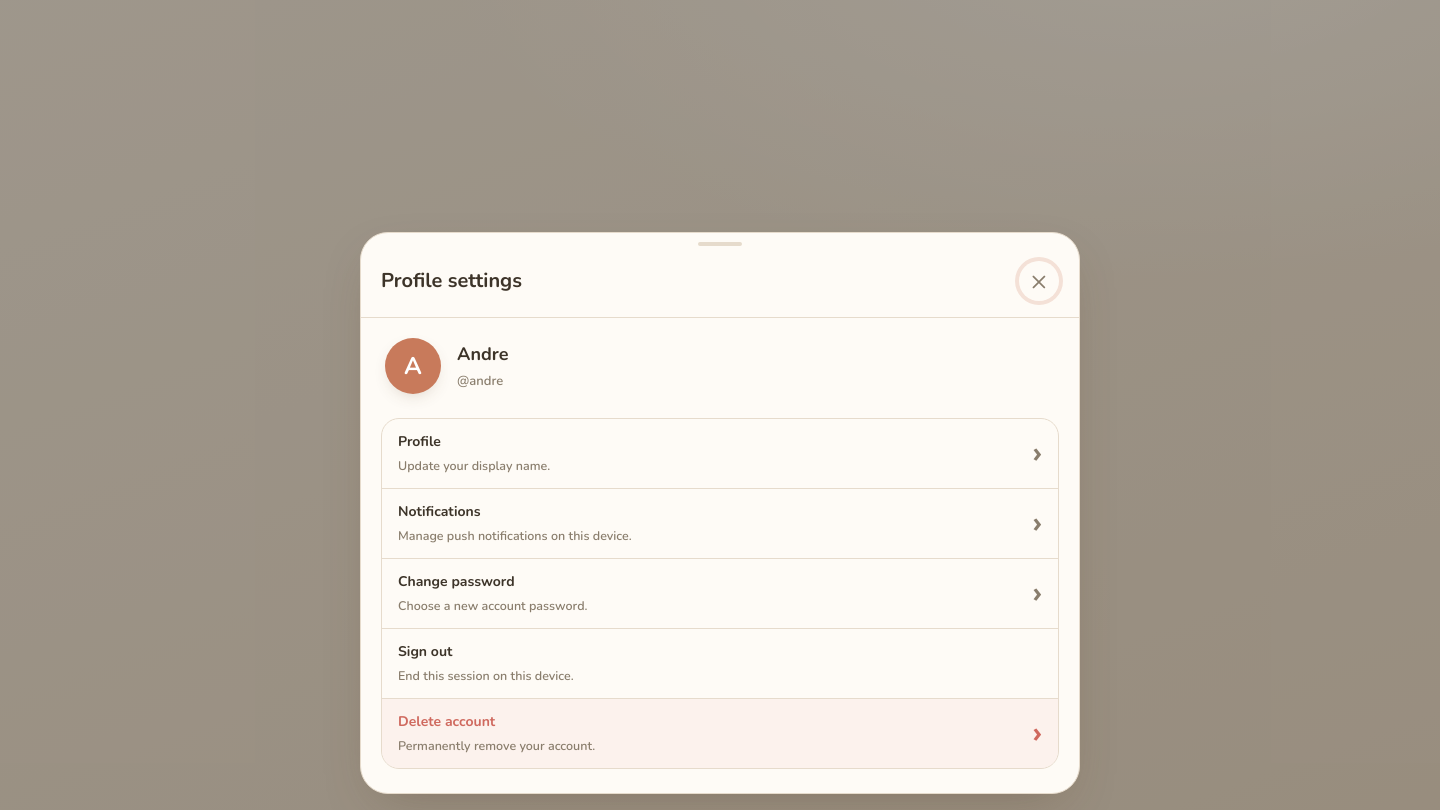
Scenario: ProfileSettings › validates matching passwords before updating credentials
Click the button "Change password Choose a new account password. ›". click: (456, 582)
box: [382,559,1058,629]
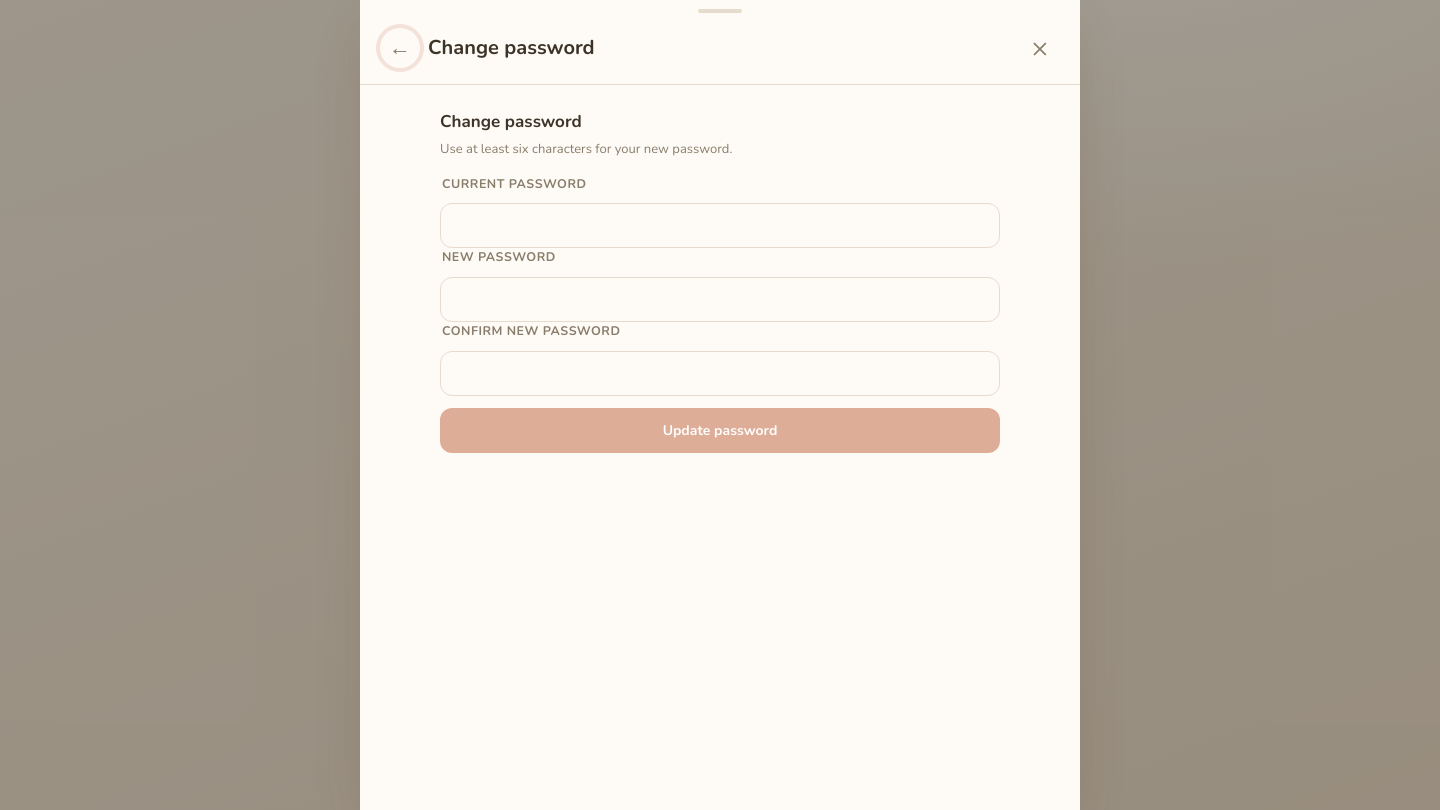
Type "roomie" into the password field labelled "Current password". click: (720, 226)
box: [440,203,1000,248]
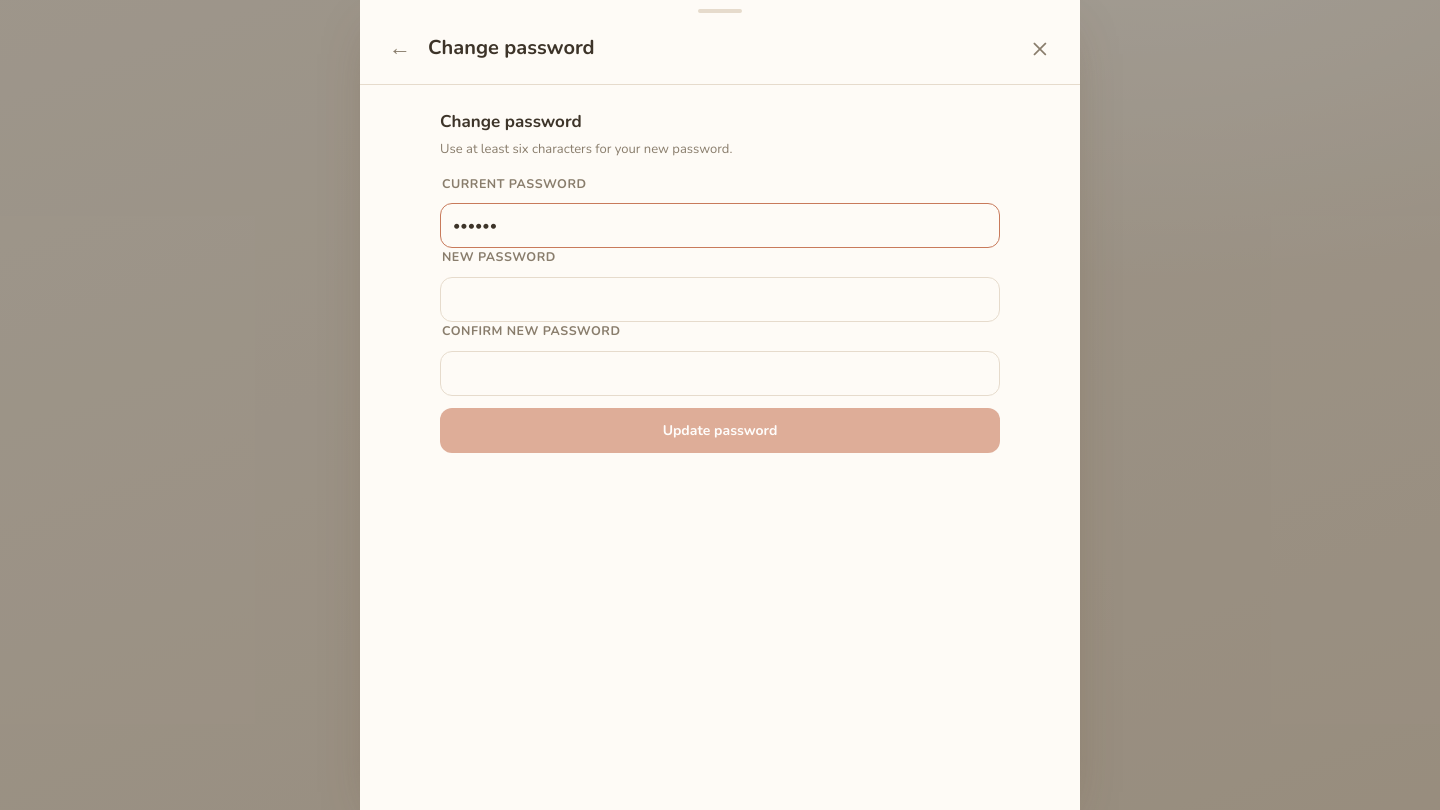
Type "new-roomie" into the password field labelled "New password". click: (720, 300)
box: [440,277,1000,322]
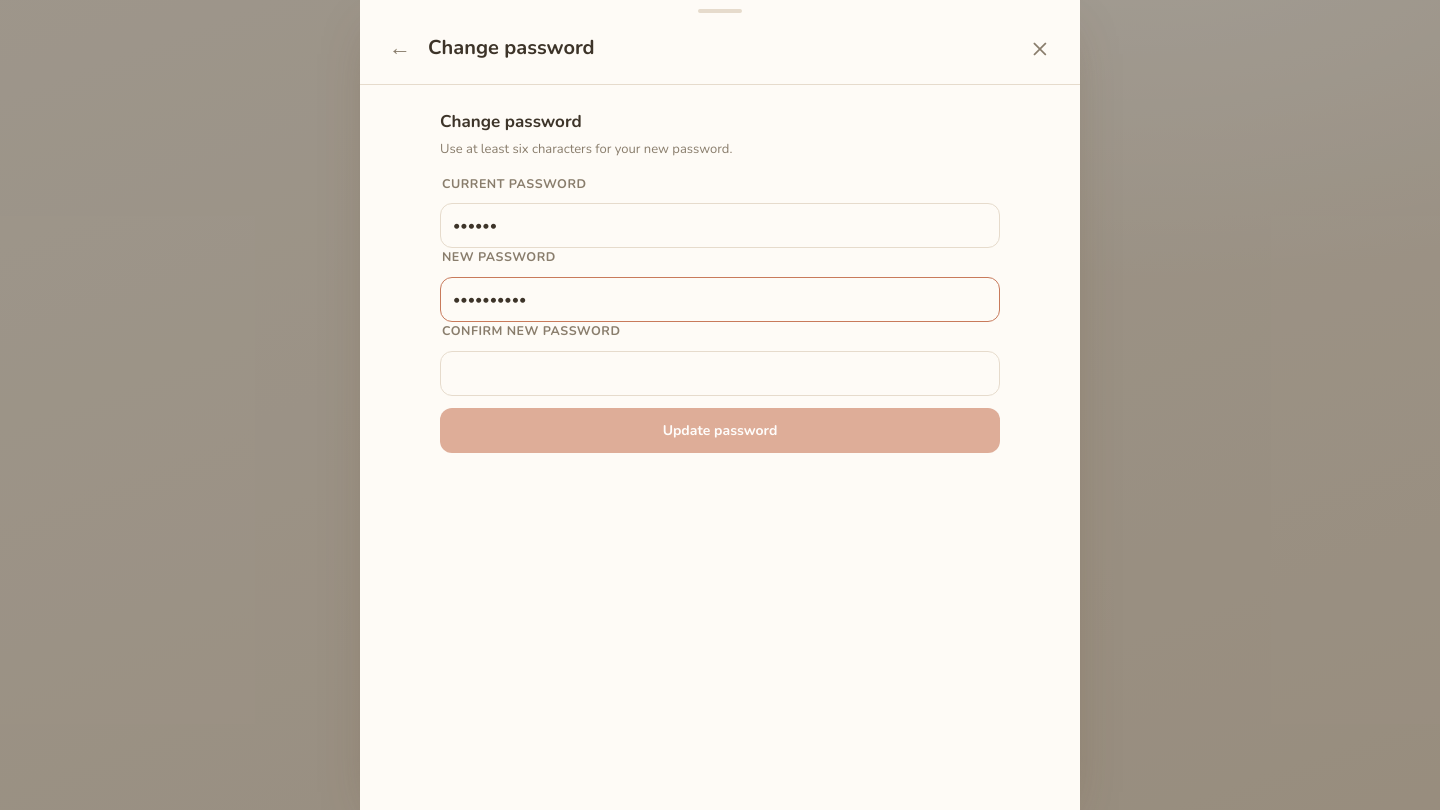
Type "different" into the password field labelled "Confirm new password". click: (720, 373)
box: [440,351,1000,396]
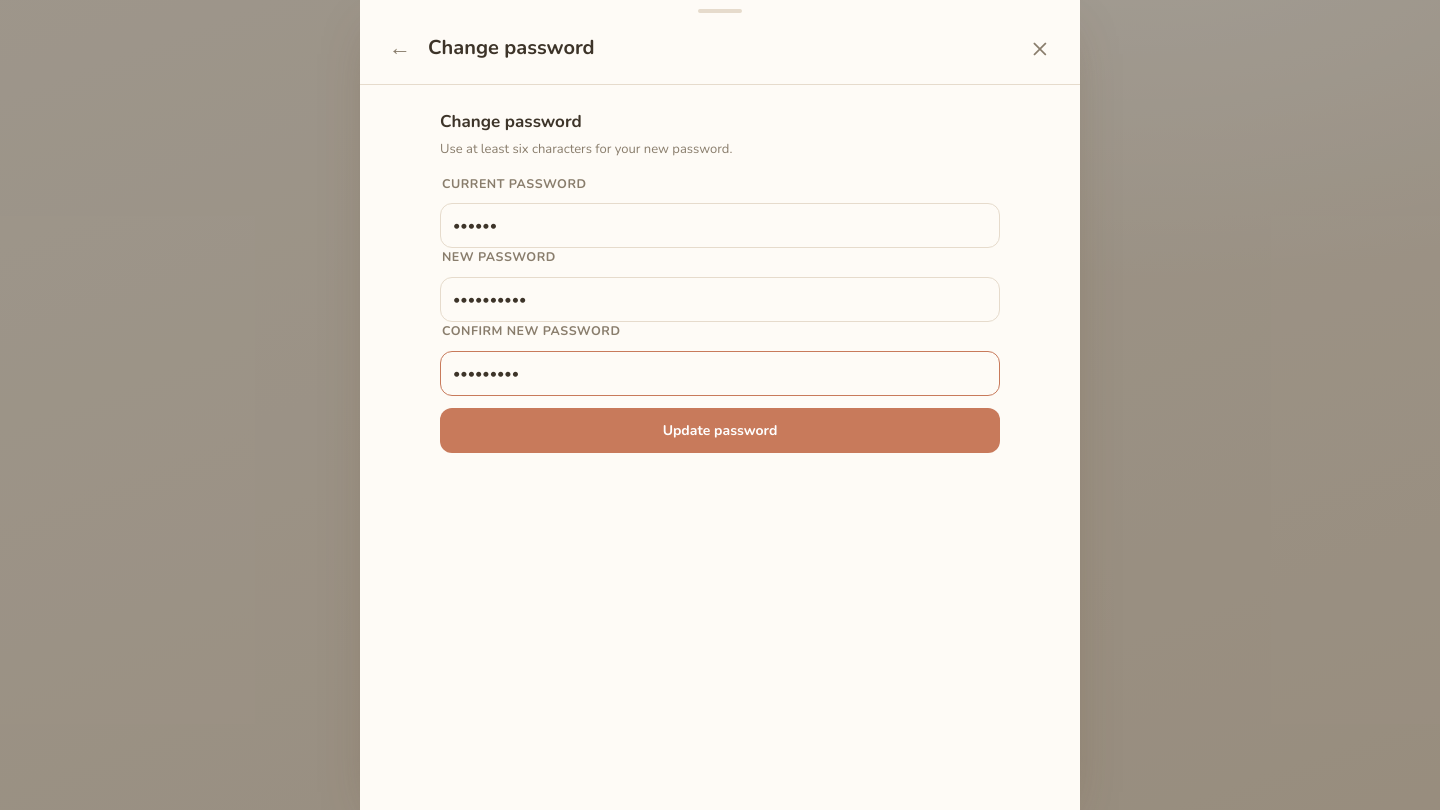
Click the button "Update password". click: (720, 430)
box: [440,408,1000,453]
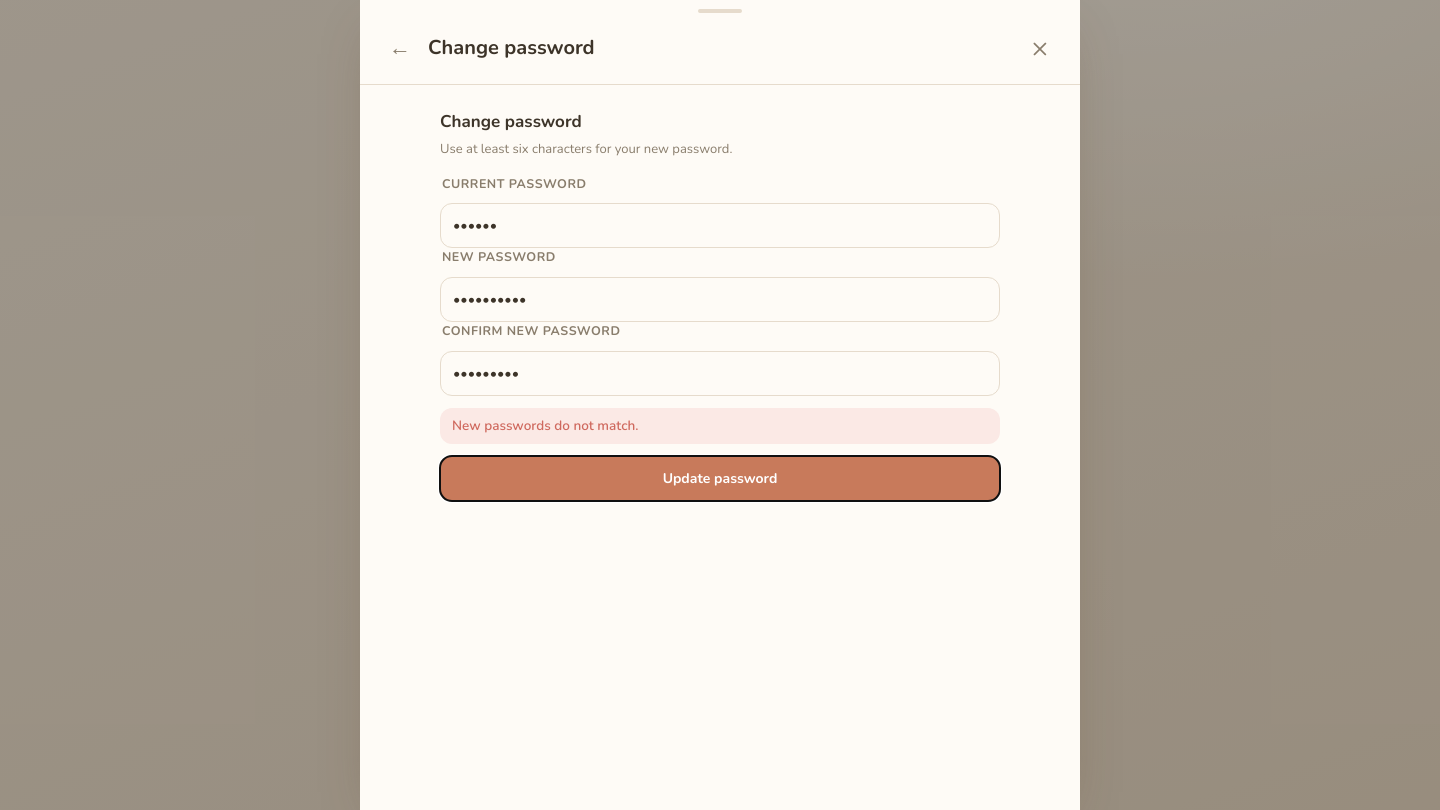
Expected: the text "New passwords do not match." is shown, [440,408,1000,444]
